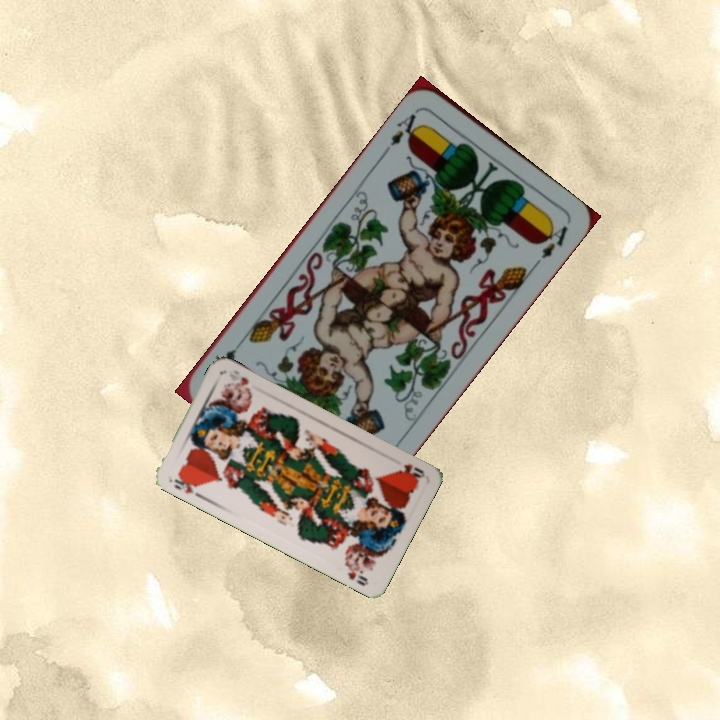EA: (380, 105, 425, 156)
HO: (169, 471, 202, 496), (395, 459, 427, 482)
